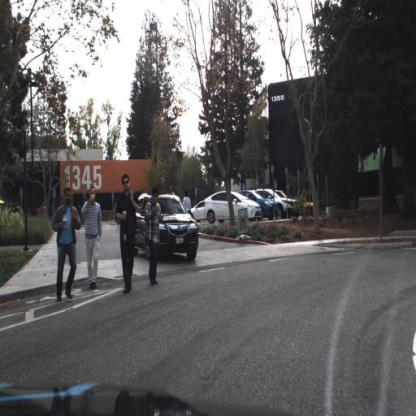car: (131, 193, 200, 266), (202, 188, 262, 228), (255, 186, 298, 219), (239, 190, 280, 221), (276, 189, 298, 221), (190, 197, 208, 223)
pedestrian: (50, 185, 82, 305), (113, 175, 142, 299), (80, 186, 103, 290), (144, 193, 166, 290), (82, 187, 100, 289), (38, 200, 48, 221), (39, 201, 49, 222)
